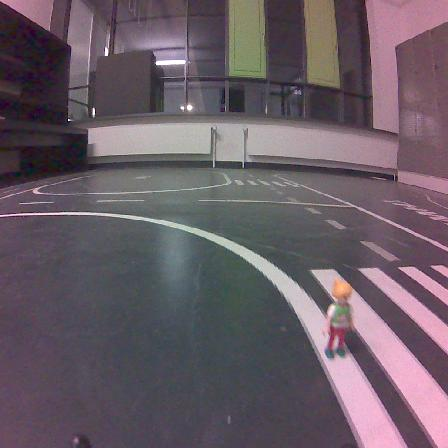CHILD: (323, 279, 353, 358)
